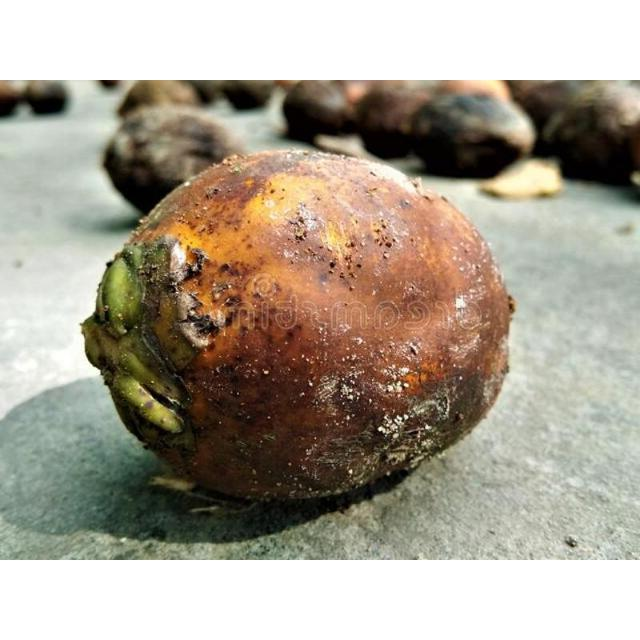damaged: (79, 149, 516, 506)
